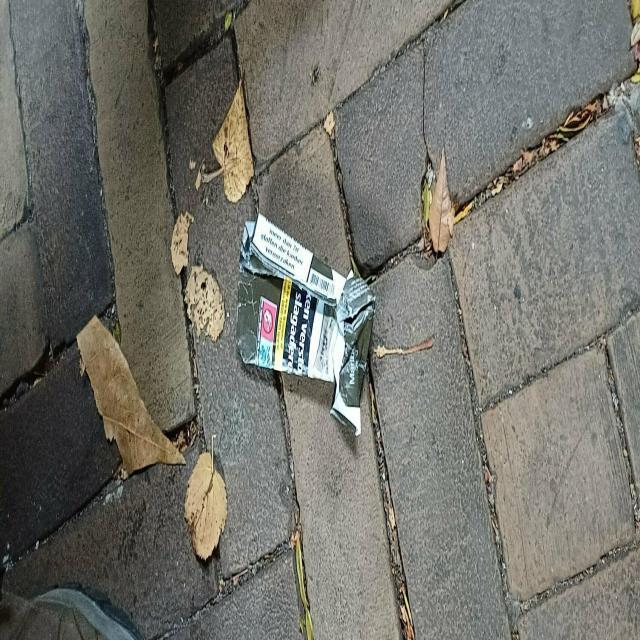Paper: (232, 208, 376, 440)
